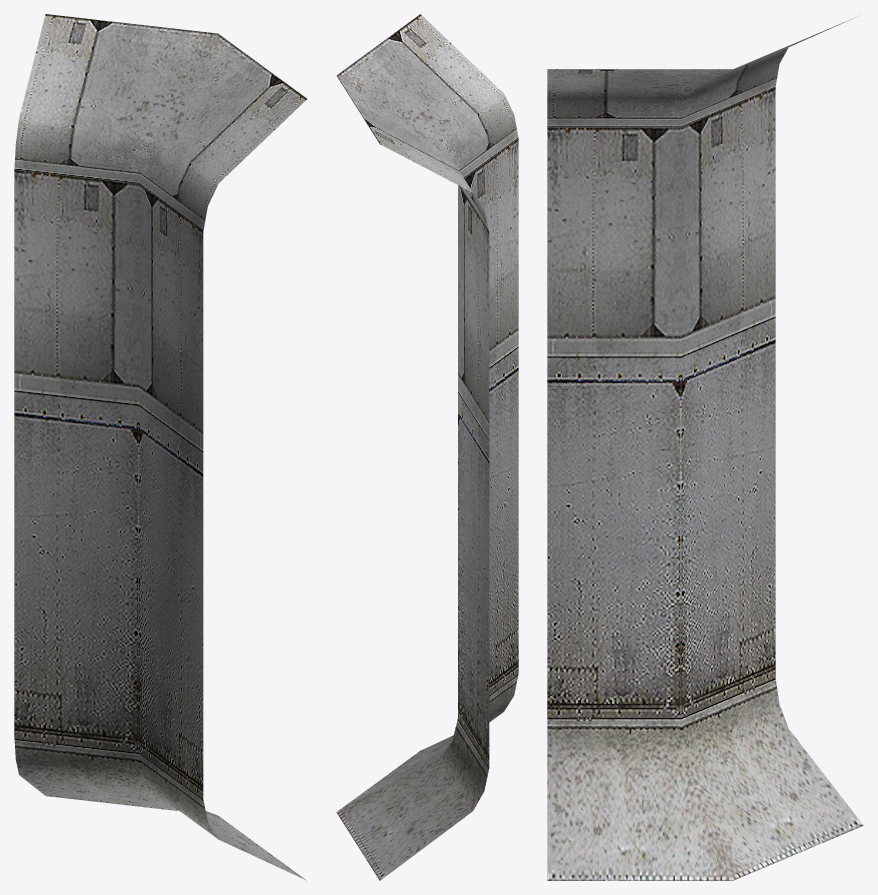
File: Wall_F_Big4mts_08.fbx
3 views of the same model, side by side, from view 1: azimuth 30°, elevation 25°; view 2: azimuth 150°, elevation 25°; view 3: azimuth 270°, elevation 25° (orthographic). The views are drawn at different scales.
Parts seen in each view (by area): view 1: Wall_F_Big4mts_08; view 2: Wall_F_Big4mts_08; view 3: Wall_F_Big4mts_08.
Part boxes in pixels (left/top/right/bottom): Wall_F_Big4mts_08: left=14, top=14, right=306, bottom=880; Wall_F_Big4mts_08: left=336, top=14, right=518, bottom=880; Wall_F_Big4mts_08: left=547, top=16, right=863, bottom=880.
Size of the model in its own units: 245 by 1000 by 354.
